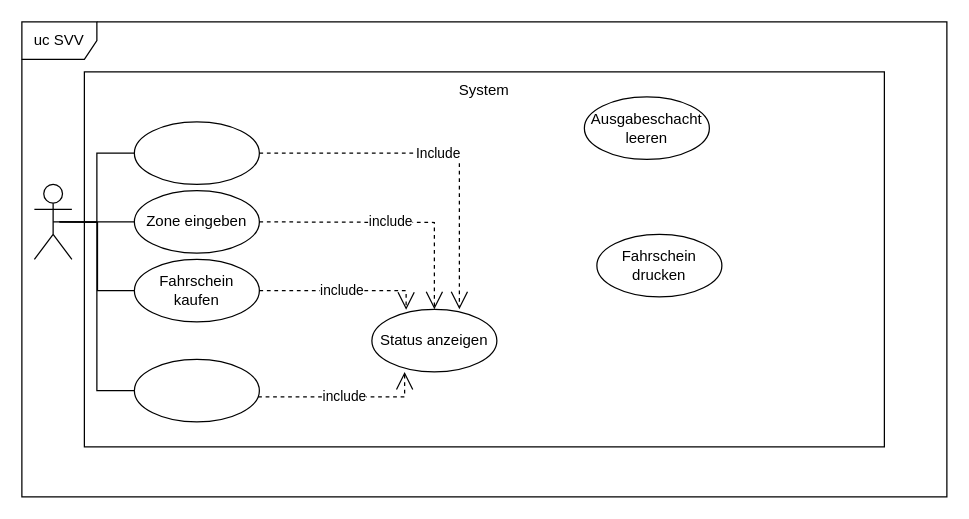
Some shapes in this 969 by 519 pixel diagram are drawn without their labels. The shapes that lost their labels are listed below. From the top down, each one's centre as x and y in pixels, then its label:
At point 196,152: "Fahrschein wählen".
At point 52,221: "Actor".
At point 196,390: "Abbrechen".
